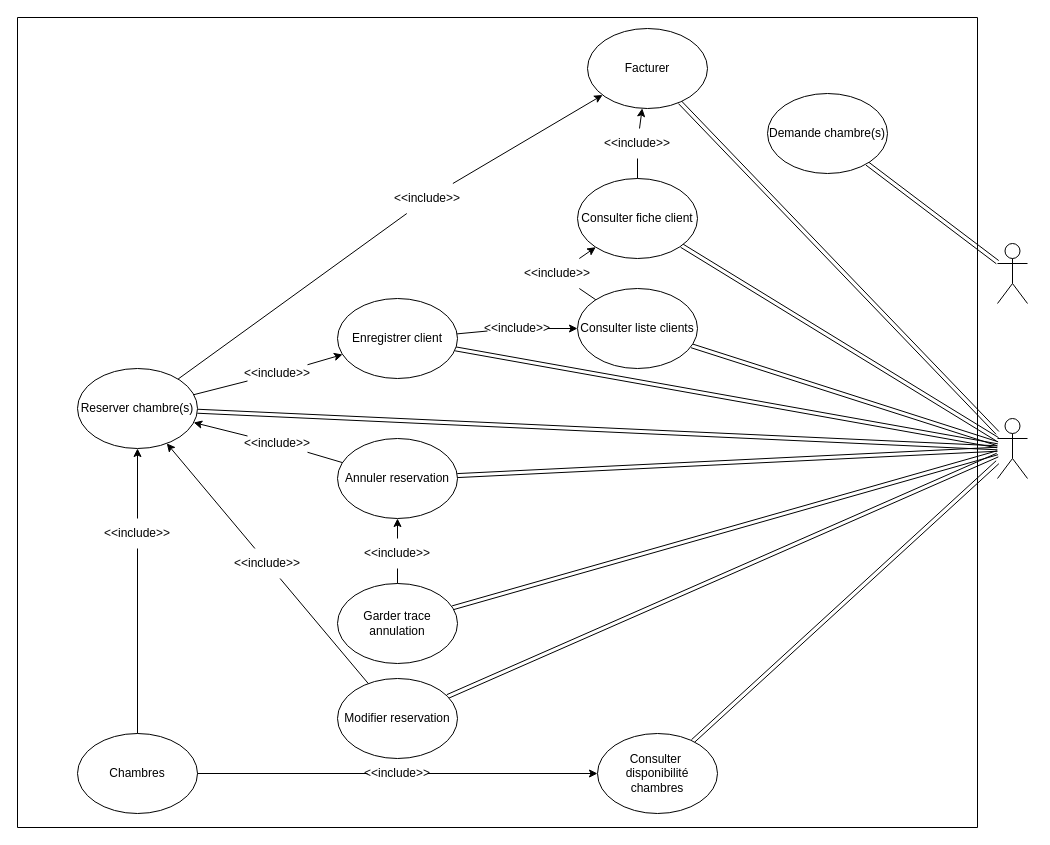
The diagram is 1050 pixels wide and 845 high, and some of its shapes have lost their labels. The shapes that lost their labels are listed below. From the top down, each one's centre as x and y in pixels, then its label:
At (1012,273): "Actor".
At (1012,448): "Hôtelier".
